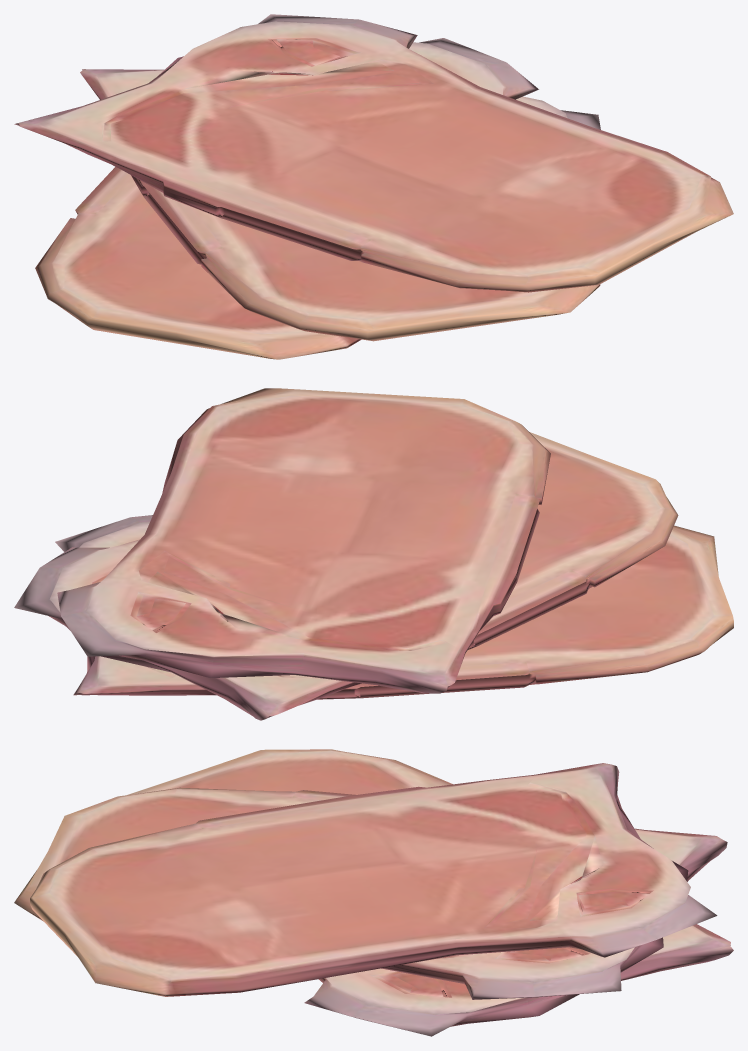
Rendered from ham.glb.
3 renders of one model, top to bottom at view 1: azimuth 30°, elevation 25°; view 2: azimuth 150°, elevation 25°; view 3: azimuth 270°, elevation 25°, orthographic. The views are drawn at different scales.
Visible parts, largest first — view 1: Ham; view 2: Ham; view 3: Ham.
Part boxes in pixels (x1=…): Ham: x1=14, y1=14, x2=733, y2=359; Ham: x1=14, y1=388, x2=733, y2=720; Ham: x1=14, y1=749, x2=733, y2=1036.
Bounding box in the file's own units: 1.52 × 0.131 × 1.62.
Materials: 3 (3 with a texture image).
